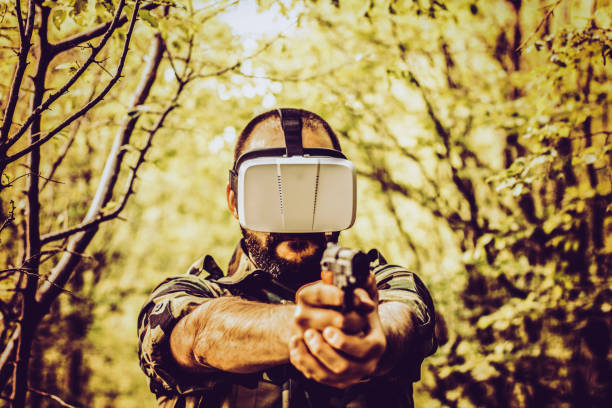gun: (320, 246, 370, 315)
